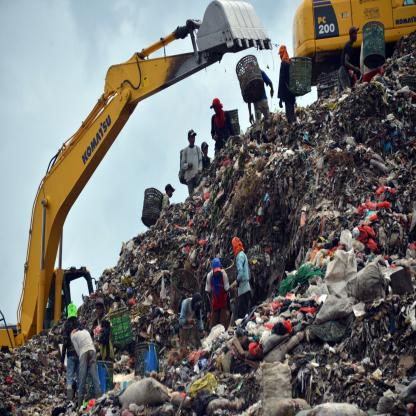Garbage: (50, 111, 416, 416)
